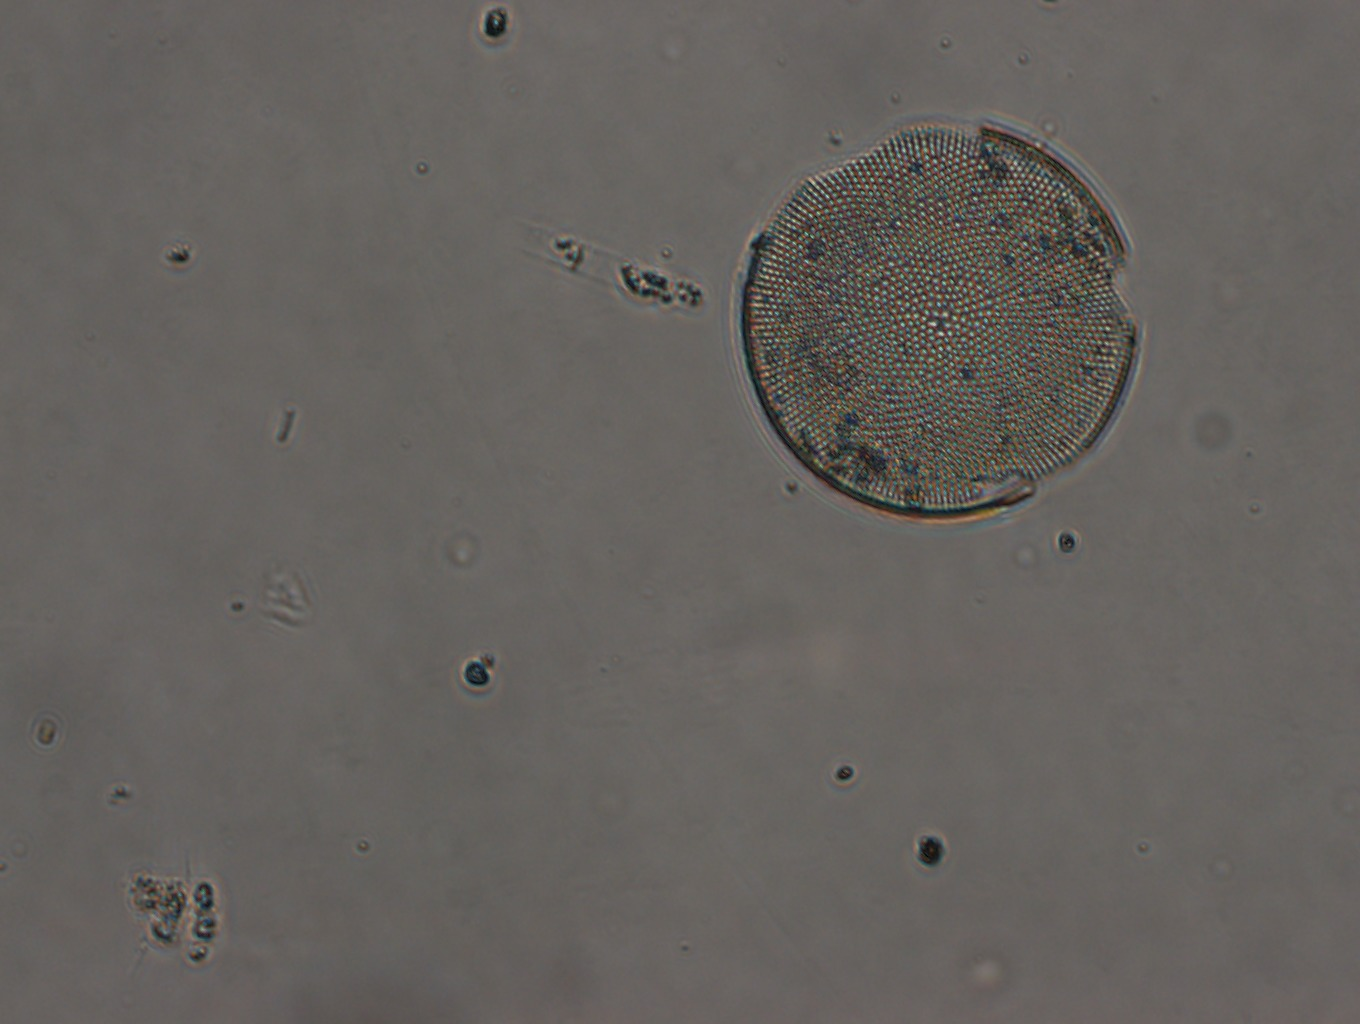coscinodiscus: (738, 116, 1139, 521)
